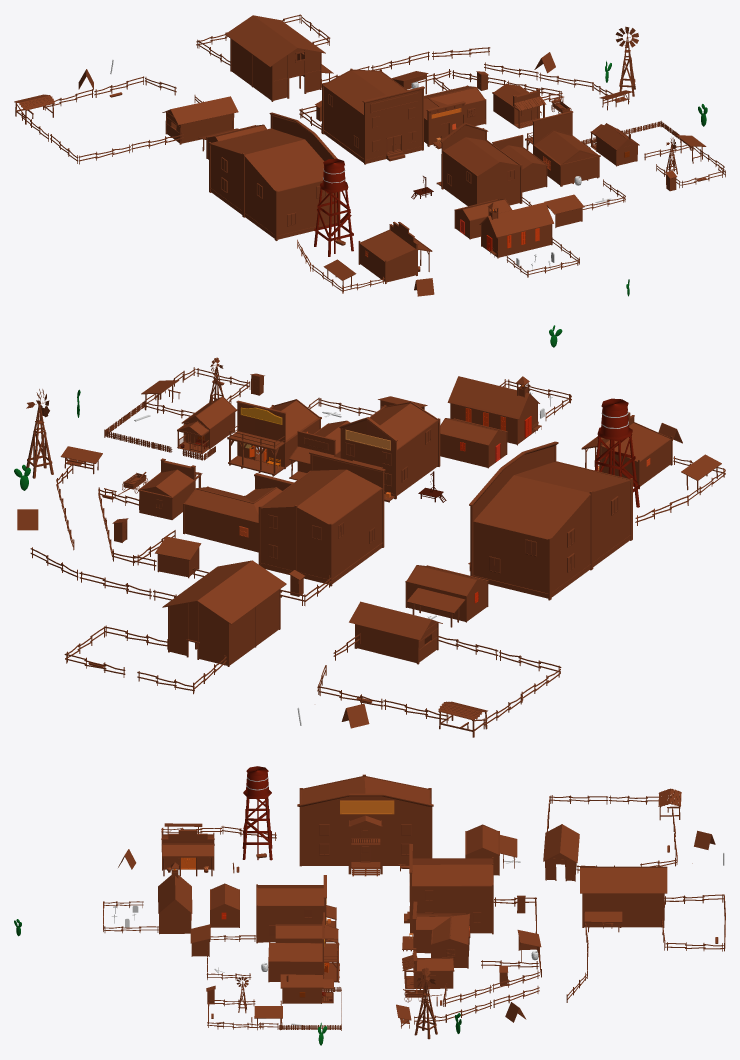
Rendered from town.glb.
The picture shows the model from 3 angles, top to bottom: view 1: azimuth 30°, elevation 25°; view 2: azimuth 150°, elevation 25°; view 3: azimuth 270°, elevation 25°; orthographic projection. The views are drawn at different scales.
Parts seen in each view (by area): view 1: Cube.011, Cube.012, Cube.026, Cube.015, Cube.001, Cube.031, Cube.014, Cube, Cube.008, Cylinder, Cube.003, Cube.005 (+6 smaller); view 2: Cube.011, Cube.012, Cube.026, Cube.015, Cube.001, Cube, Cube.031, Cube.008, Cube.037, Cube.014, Cube.053, Cube.003 (+8 smaller); view 3: Cube.011, Cube.012, Cube.026, Cube.015, Cube, Cube.001, Cube.014, Cube.031, Cylinder, Cube.008, Cube.004, Cube.003 (+7 smaller).
Part boxes in pixels (x1=…): Cube.011: x1=209, y1=112, x2=340, y2=240; Cube.012: x1=322, y1=68, x2=424, y2=164; Cube.026: x1=225, y1=15, x2=325, y2=101; Cube.015: x1=436, y1=122, x2=522, y2=206; Cube.001: x1=525, y1=111, x2=600, y2=186; Cube.031: x1=479, y1=202, x2=553, y2=258; Cube.014: x1=358, y1=221, x2=432, y2=283; Cube: x1=424, y1=85, x2=486, y2=149; Cube.008: x1=162, y1=96, x2=238, y2=144; Cylinder: x1=314, y1=158, x2=353, y2=256; Cube.003: x1=492, y1=83, x2=546, y2=128; Cube.005: x1=492, y1=135, x2=547, y2=192; Cube.011: x1=469, y1=441, x2=632, y2=600; Cube.012: x1=258, y1=451, x2=385, y2=586; Cube.026: x1=162, y1=560, x2=286, y2=666; Cube.015: x1=339, y1=401, x2=440, y2=502; Cube.001: x1=227, y1=399, x2=321, y2=476; Cube: x1=183, y1=473, x2=293, y2=552; Cube.031: x1=447, y1=376, x2=539, y2=445; Cube.008: x1=349, y1=601, x2=442, y2=664; Cube.037: x1=405, y1=565, x2=488, y2=622; Cube.014: x1=581, y1=412, x2=672, y2=489; Cube.053: x1=440, y1=418, x2=507, y2=468; Cube.003: x1=138, y1=458, x2=202, y2=519; Cube.011: x1=297, y1=774, x2=433, y2=876; Cube.012: x1=404, y1=844, x2=493, y2=934; Cube.026: x1=580, y1=866, x2=667, y2=927; Cube.015: x1=256, y1=875, x2=336, y2=943; Cube: x1=402, y1=901, x2=470, y2=968; Cube.001: x1=268, y1=919, x2=339, y2=982; Cube.014: x1=161, y1=830, x2=214, y2=876; Cube.031: x1=158, y1=862, x2=192, y2=934; Cylinder: x1=242, y1=766, x2=272, y2=860; Cube.008: x1=543, y1=824, x2=579, y2=881; Cube.004: x1=280, y1=974, x2=333, y2=1003; Cube.003: x1=402, y1=948, x2=454, y2=989.
Bounding box in the file's own units: 5.26 × 0.8928 × 6.5.
